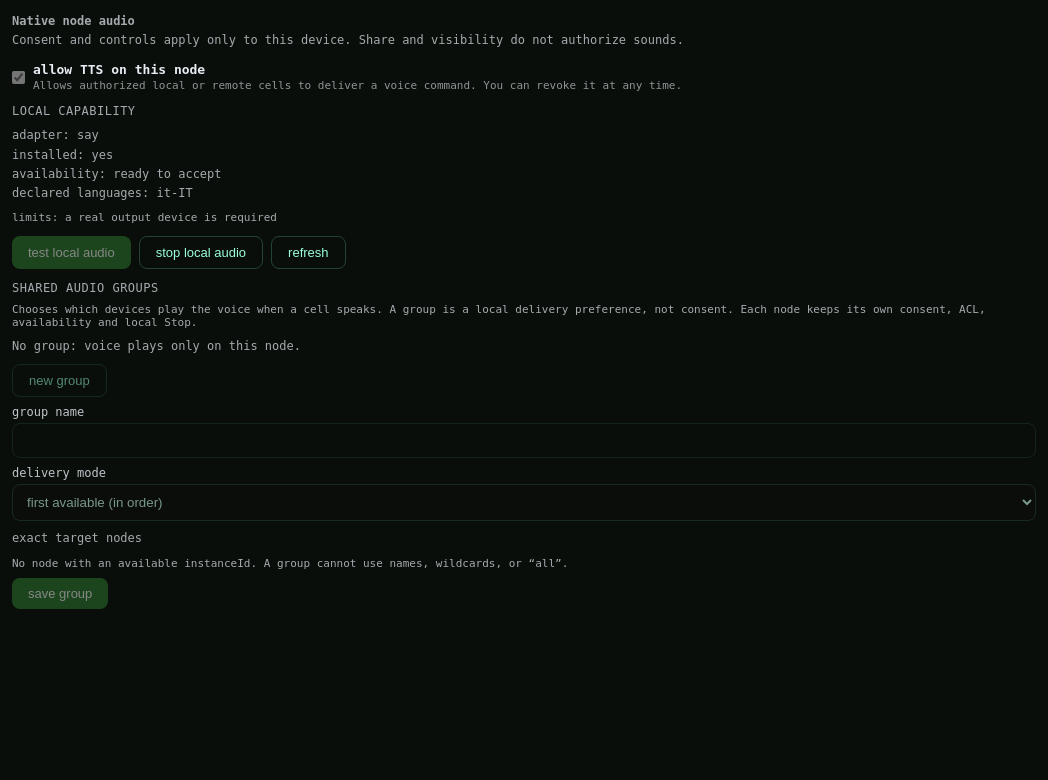
Test case: Settings native node audio › keeps local Stop available in READONLY while consent and Test remain blocked
The image size is (1048, 780).
Expected: the checkbox labelled "allow TTS on this node" is disabled, [12, 71, 25, 84]
Expected: the button "test local audio" is disabled, [12, 236, 131, 269]
Click the button "stop local audio".
click(201, 253)  # box [139, 236, 263, 269]
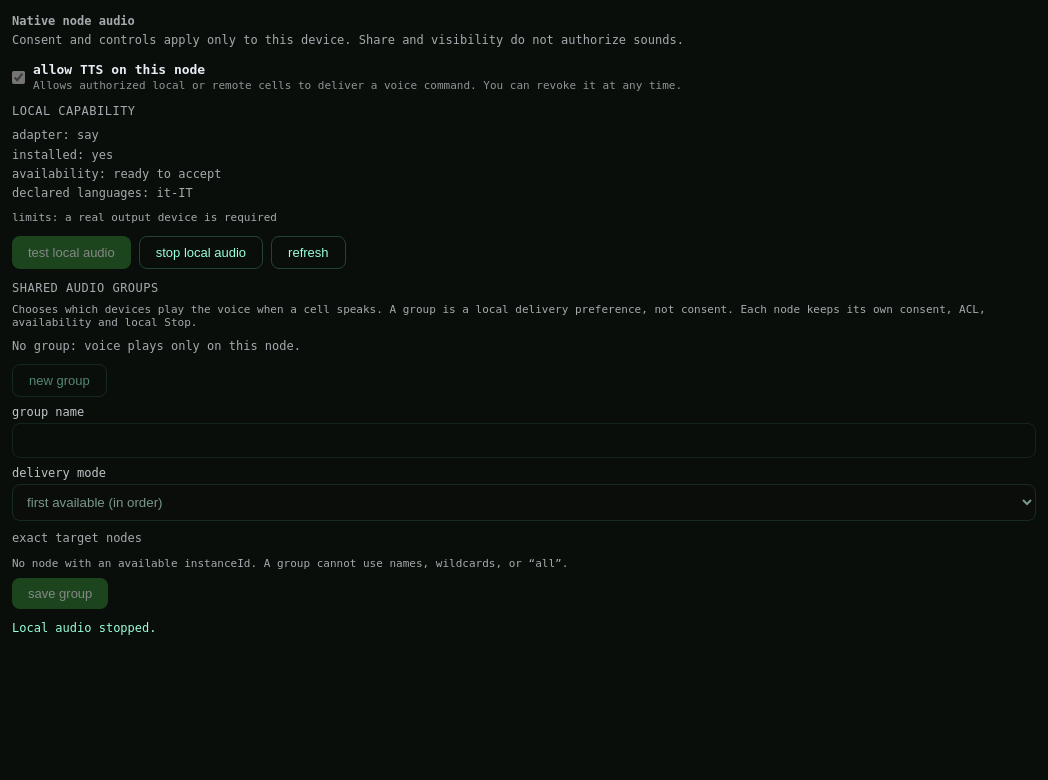
Now the text "Local audio stopped." is shown, box [12, 620, 156, 634]
